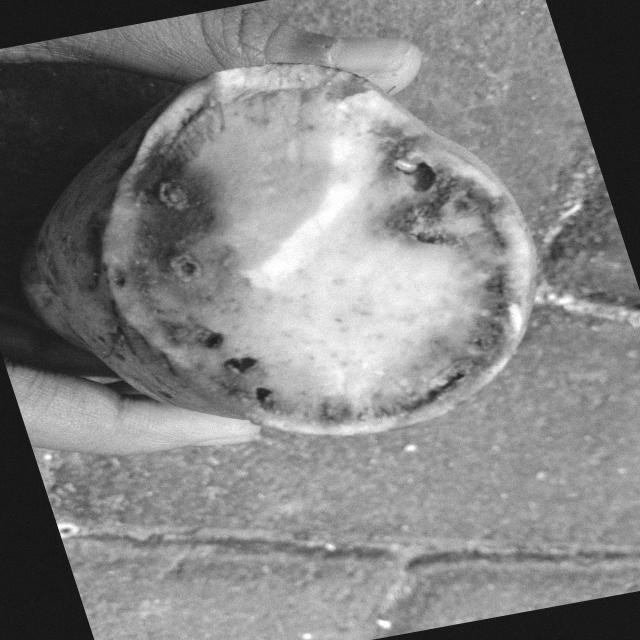Sick Sweet Potato_Tuber Rot: (102, 64, 537, 435)
